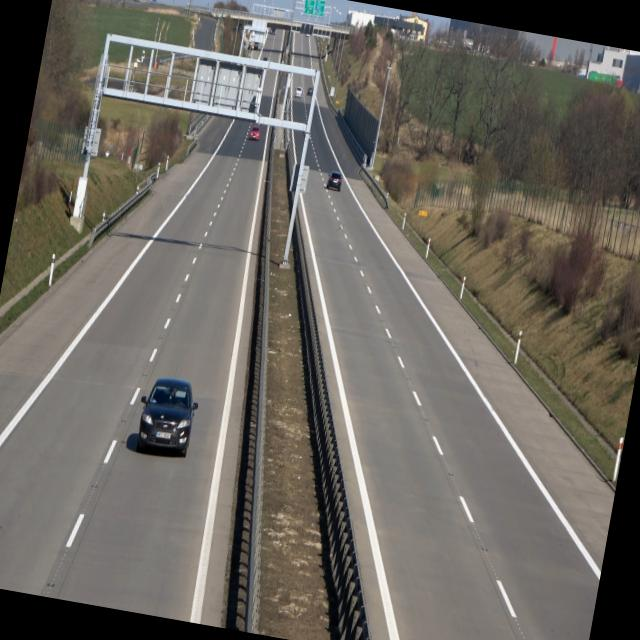Vehicle: (132, 371, 206, 463), (326, 169, 344, 192), (248, 125, 262, 142), (293, 86, 303, 100)
